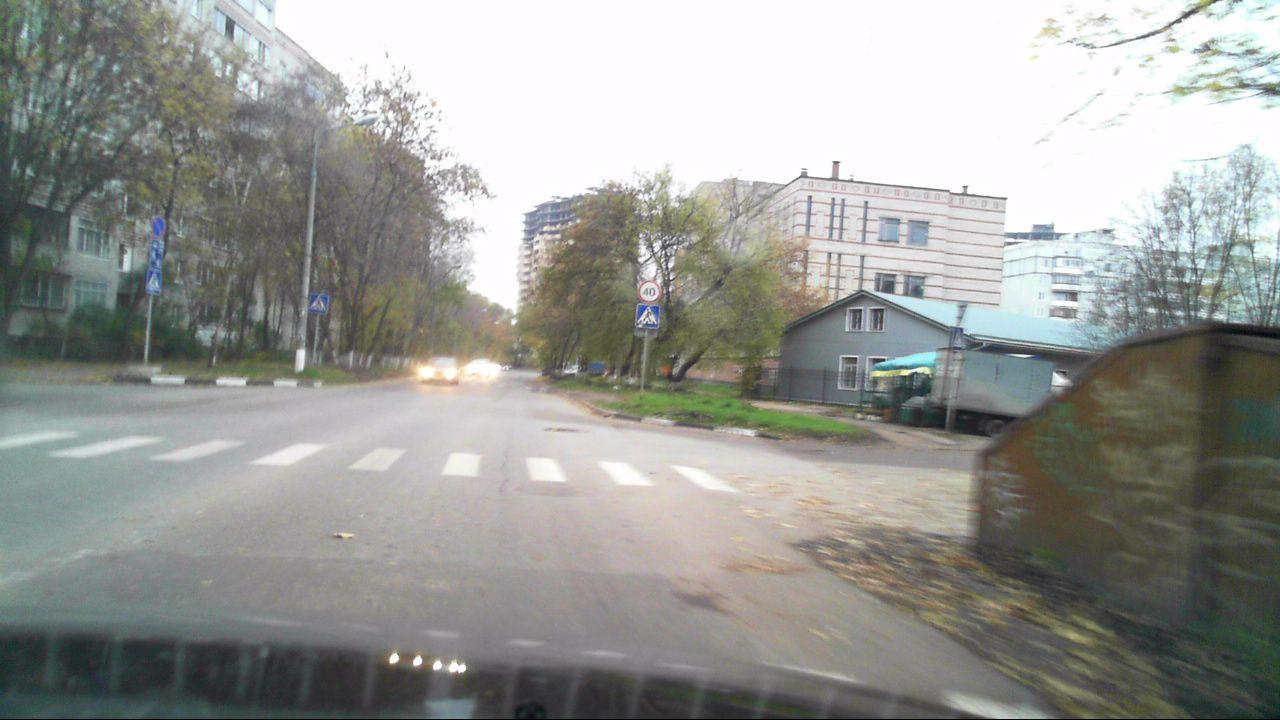3_24: (638, 280, 663, 304)
3_28: (148, 215, 165, 237)
5_19_1: (634, 303, 661, 330), (145, 270, 163, 295)
5_19_2: (307, 290, 332, 316)
5_21: (148, 240, 165, 270)
